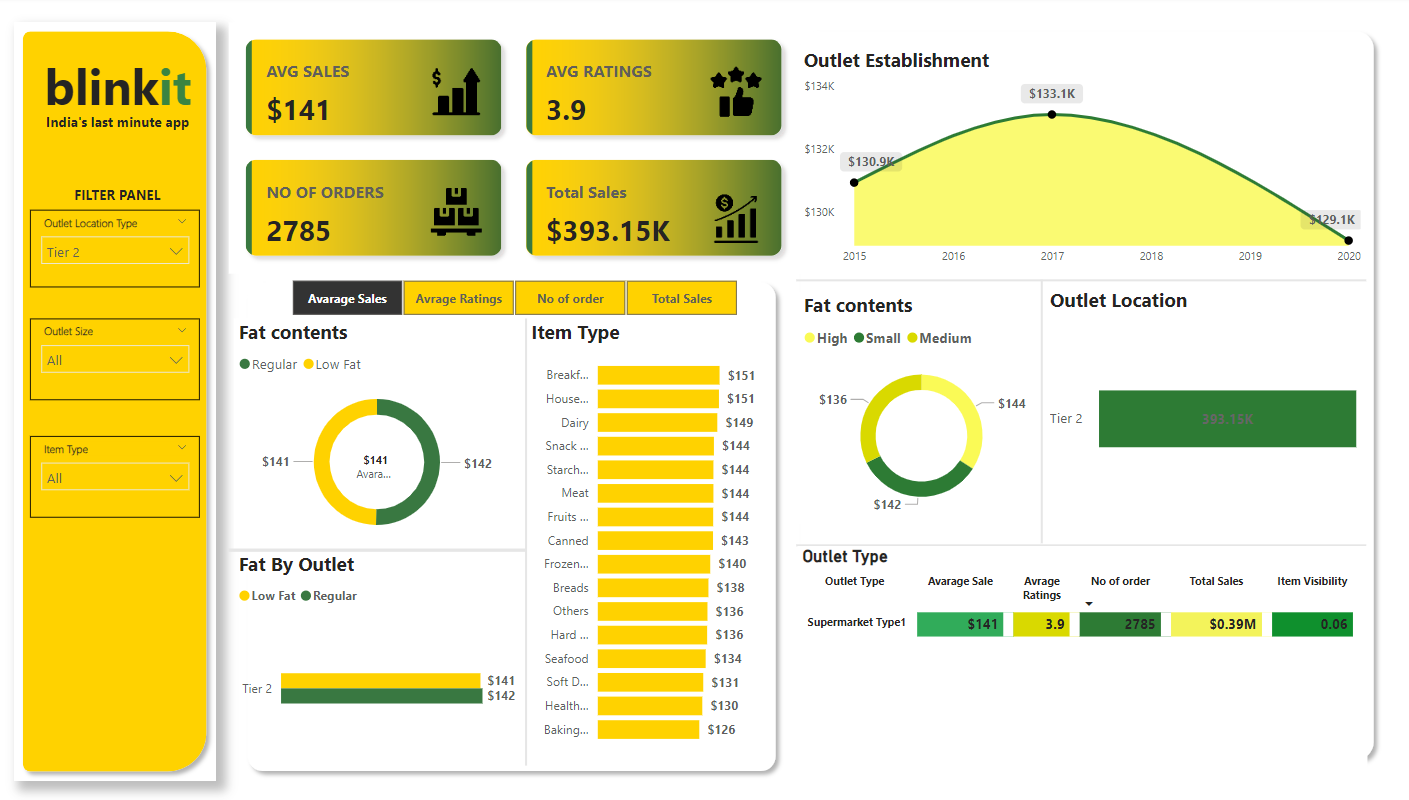

The dashboard page shown, as its layout file describes it:
{"tool":"powerbi","page":{"name":"Page 1","canvas":[1400,800],"ordinal":0},"visuals":[{"type":"shape","box":[18,25.5,199.6,750.4],"z":0},{"type":"textbox","box":[34.5,51,174.1,76.5],"z":1000},{"type":"textbox","box":[28.5,109.6,186.1,37.5],"z":2000},{"type":"cardVisual","fields":{"Data":["BlinkIT Grocery Data.Avarage Sales","BlinkIT Grocery Data.Avrage Ratings","BlinkIT Grocery Data.No of order","BlinkIT Grocery Data.Total Sales"]},"box":[231.1,25.5,564.3,249.1],"z":3000},{"type":"shape","box":[241.6,274.7,540.3,501.3],"z":4000},{"type":"donutChart","title":"Fat contents","fields":{"Y":["BlinkIT Grocery Data.Avarage Sales"],"Category":["BlinkIT Grocery Data.Item Fat Content"]},"box":[235.6,319.7,283.7,229.6],"z":5000},{"type":"slicer","fields":{"Values":["Matrics.Matrics"]},"box":[268.7,274.7,489.3,48],"z":6000},{"type":"cardVisual","fields":{"Data":["BlinkIT Grocery Data.Avarage Sales"]},"box":[340.7,435.3,73.5,51],"z":7000},{"type":"clusteredBarChart","title":"Fat By Outlet","fields":{"Y":["BlinkIT Grocery Data.Avarage Sales"],"Category":["BlinkIT Grocery Data.Outlet Location Type"],"Series":["BlinkIT Grocery Data.Item Fat Content"]},"box":[235.6,549.3,283.7,213.1],"z":8000},{"type":"shape","box":[231.1,543.3,294.2,12],"z":9000},{"type":"shape","box":[519.3,319.7,12,442.8],"z":10000},{"type":"barChart","title":"Item Type","fields":{"Y":["BlinkIT Grocery Data.Avarage Sales"],"Category":["BlinkIT Grocery Data.Item Type"]},"box":[525.3,319.7,232.6,430.7],"z":11000},{"type":"shape","box":[788,25.5,585.3,738.4],"z":11001},{"type":"lineChart","title":"Outlet Establishment ","fields":{"Category":["BlinkIT Grocery Data.Outlet Establishment Year"],"Y":["BlinkIT Grocery Data.Total Sales"]},"box":[795.5,51,561.3,223.6],"z":11002},{"type":"shape","box":[231.1,541.8,294.2,12],"z":11003},{"type":"shape","box":[792.5,274.7,564.3,13.5],"z":11004},{"type":"donutChart","title":"Fat contents","fields":{"Y":["BlinkIT Grocery Data.Avarage Sales"],"Category":["BlinkIT Grocery Data.Outlet Size"]},"box":[795.5,292.7,243.1,229.6],"z":11005},{"type":"shape","box":[1032.6,280.7,6,261.2],"z":11006},{"type":"funnel","title":" Outlet Location","fields":{"Y":["Sum(BlinkIT Grocery Data.Sales)"],"Category":["BlinkIT Grocery Data.Outlet Location Type"]},"box":[1038.6,288.2,318.2,234.1],"z":11007},{"type":"shape","box":[792.5,537.3,564.3,13.5],"z":11008},{"type":"pivotTable","title":"Outlet Type","fields":{"Rows":["BlinkIT Grocery Data.Outlet Type"],"Values":["BlinkIT Grocery Data.Avarage Sales","BlinkIT Grocery Data.Avrage Ratings","BlinkIT Grocery Data.No of order","BlinkIT Grocery Data.Total Sales","Avg(BlinkIT Grocery Data.Item Visibility)"]},"box":[794,544.8,564.3,225.1],"z":11009},{"type":"slicer","fields":{"Values":["BlinkIT Grocery Data.Outlet Location Type"]},"box":[34.5,211.6,168.1,76.5],"z":11010},{"type":"slicer","fields":{"Values":["BlinkIT Grocery Data.Outlet Size"]},"box":[34.5,319.7,168.1,81],"z":11011},{"type":"slicer","fields":{"Values":["BlinkIT Grocery Data.Item Type"]},"box":[34.5,435.3,168.1,81],"z":11012},{"type":"textbox","box":[37.5,183.1,168.1,28.5],"z":11013}]}

Visuals, with their boxes in screenshot pixels (x1, y1, x2, y2), scaled from the page's 1400x800 canvas onto the 1409x800 screenshot:
shape: x1=18 y1=26 x2=219 y2=776
textbox: x1=35 y1=51 x2=210 y2=128
textbox: x1=29 y1=110 x2=216 y2=147
cardVisual - BlinkIT Grocery Data.Avarage Sales x BlinkIT Grocery Data.Avrage Ratings: x1=233 y1=26 x2=801 y2=275
shape: x1=243 y1=275 x2=787 y2=776
"Fat contents" donutChart: x1=237 y1=320 x2=523 y2=549
slicer - Matrics.Matrics: x1=270 y1=275 x2=763 y2=323
cardVisual - BlinkIT Grocery Data.Avarage Sales: x1=343 y1=435 x2=417 y2=486
"Fat By Outlet" clusteredBarChart: x1=237 y1=549 x2=523 y2=762
shape: x1=233 y1=543 x2=529 y2=555
shape: x1=523 y1=320 x2=535 y2=762
"Item Type" barChart: x1=529 y1=320 x2=763 y2=750
shape: x1=793 y1=26 x2=1382 y2=764
"Outlet Establishment " lineChart: x1=801 y1=51 x2=1366 y2=275
shape: x1=233 y1=542 x2=529 y2=554
shape: x1=798 y1=275 x2=1366 y2=288
"Fat contents" donutChart: x1=801 y1=293 x2=1045 y2=522
shape: x1=1039 y1=281 x2=1045 y2=542
" Outlet Location" funnel: x1=1045 y1=288 x2=1366 y2=522
shape: x1=798 y1=537 x2=1366 y2=551
"Outlet Type" pivotTable: x1=799 y1=545 x2=1367 y2=770
slicer - BlinkIT Grocery Data.Outlet Location Type: x1=35 y1=212 x2=204 y2=288
slicer - BlinkIT Grocery Data.Outlet Size: x1=35 y1=320 x2=204 y2=401
slicer - BlinkIT Grocery Data.Item Type: x1=35 y1=435 x2=204 y2=516
textbox: x1=38 y1=183 x2=207 y2=212
